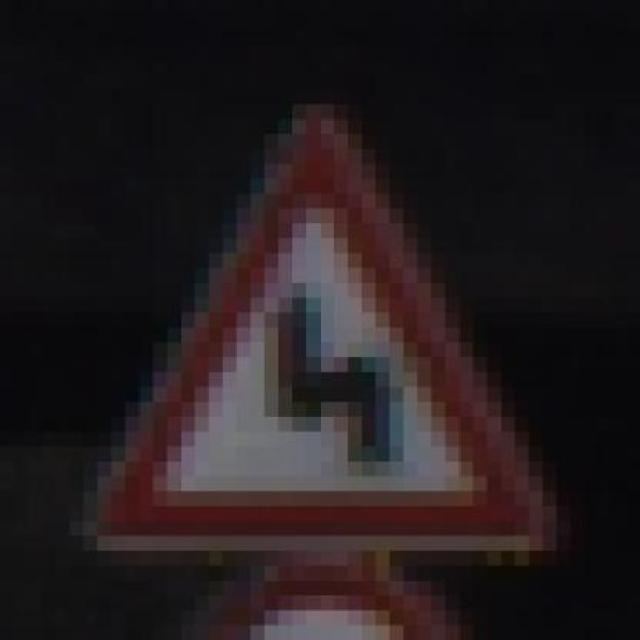Left Zig Zag Traffic: (42, 104, 570, 550)
